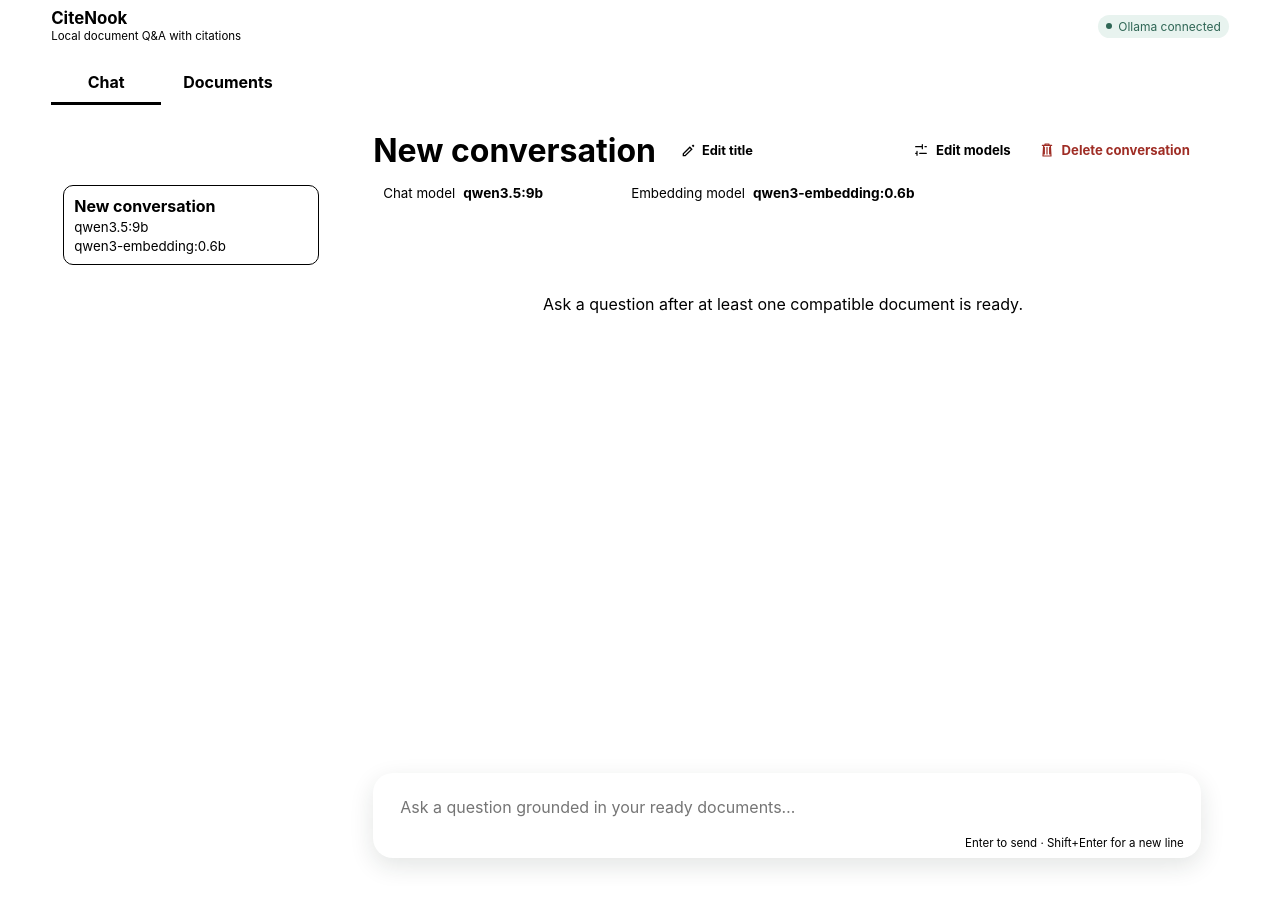
it: persistent conversation history › cancels title editing without changing the stored title
Click the button with aria-label "Edit conversation title" at coordinates (716, 151), box [670,136,763,166]
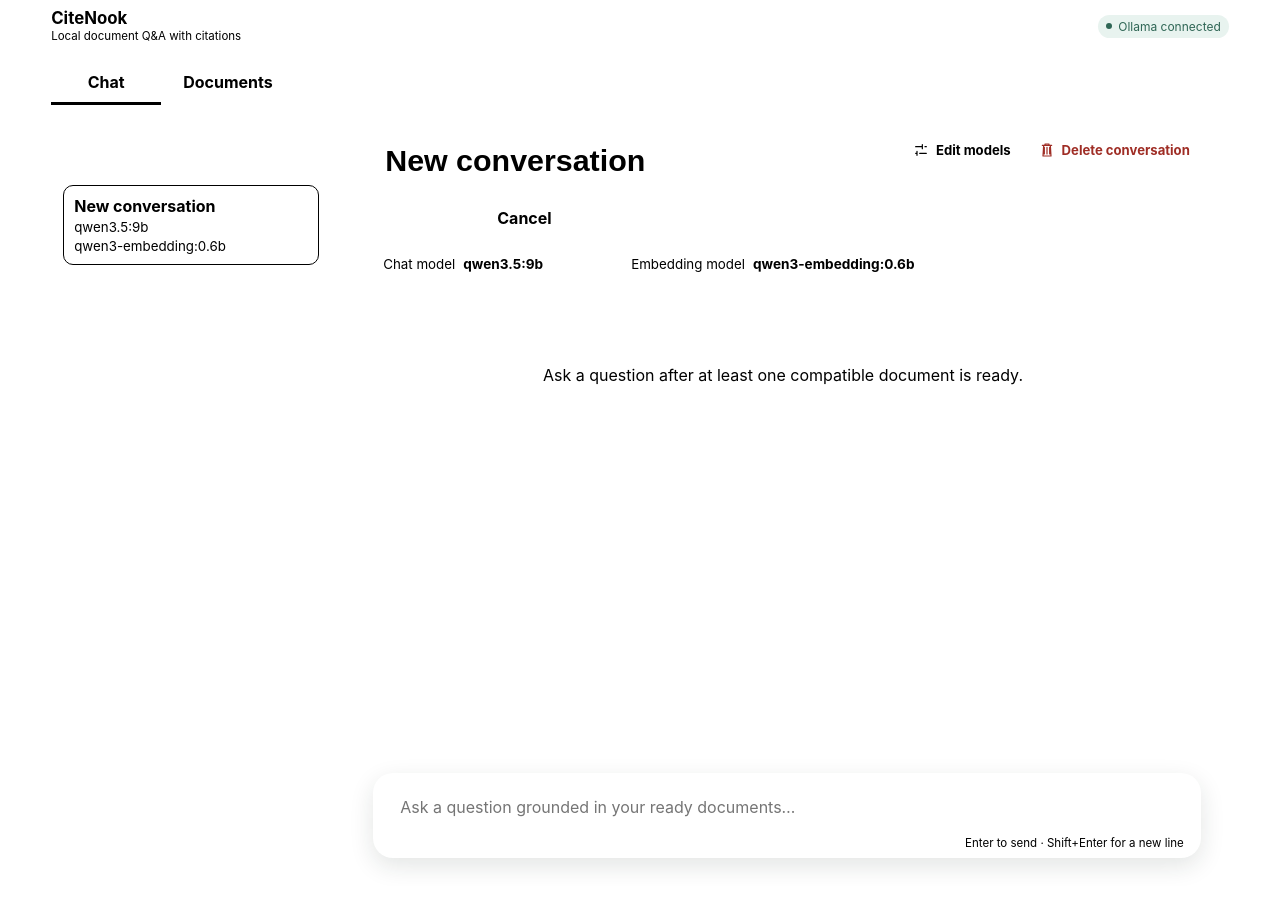
Replace the text in the field named "Conversation title" with "Discard this title" at coordinates (628, 160), box [373,133,882,188]
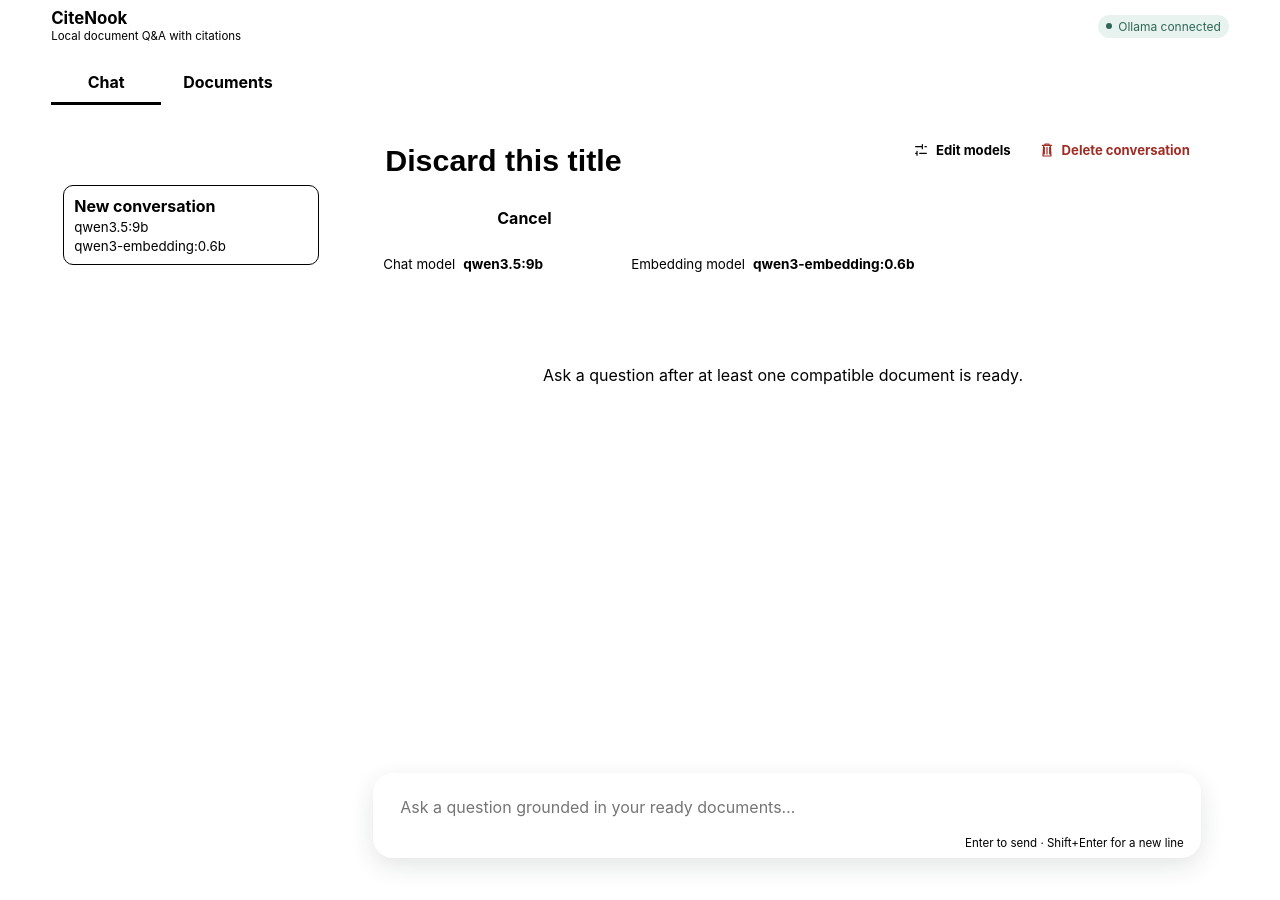
Click the button "Cancel" at coordinates (524, 218), box [483,197,566,239]
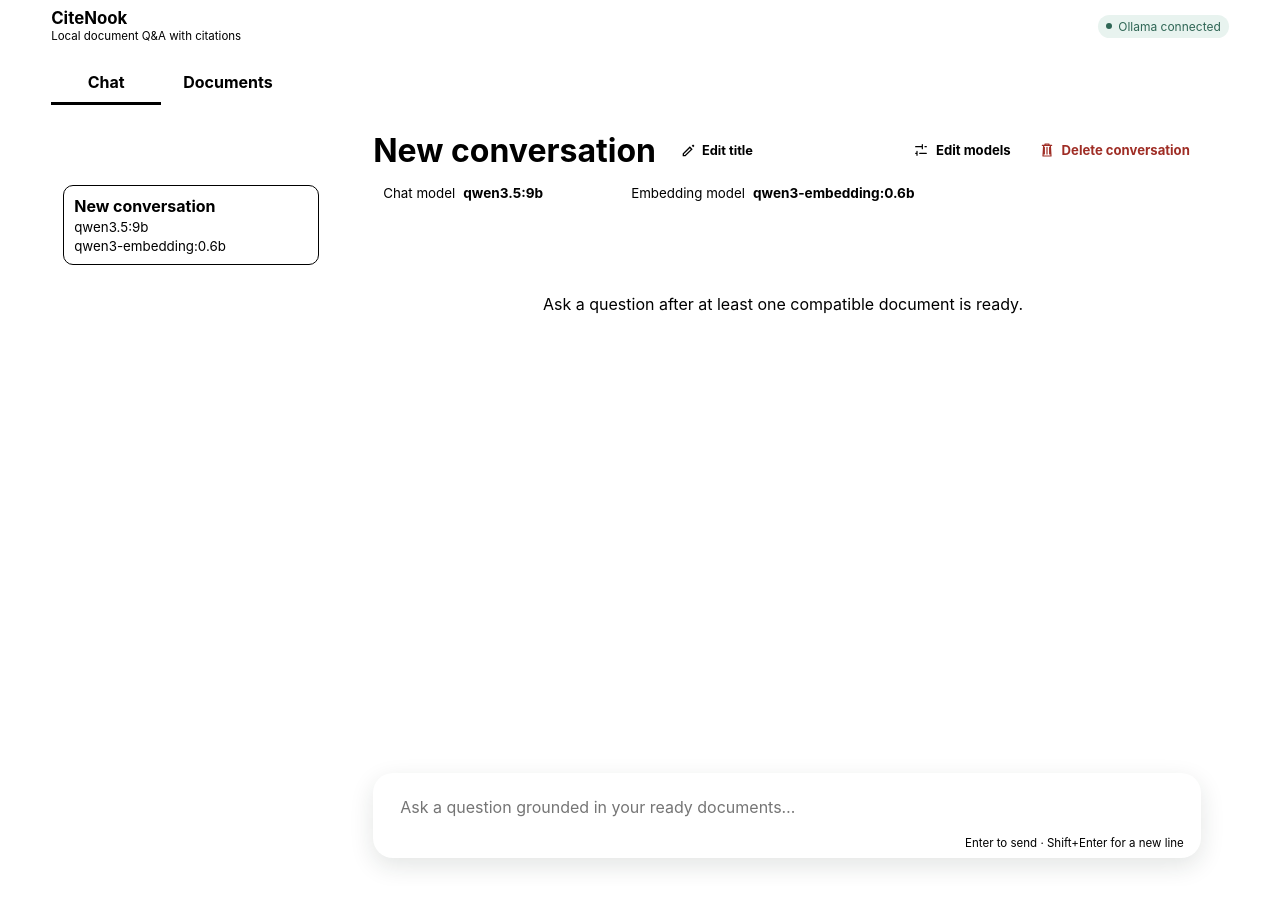
Expected: the text "New conversation" is shown, [74,196,216,216]
Expected: the heading "New conversation" is shown, [373,133,656,168]
